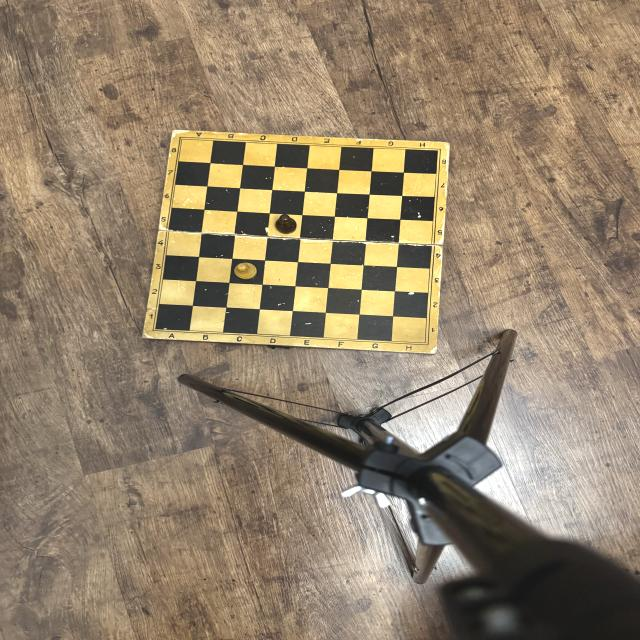black-pawn: (275, 214, 297, 234)
white-pawn: (234, 262, 257, 280)
